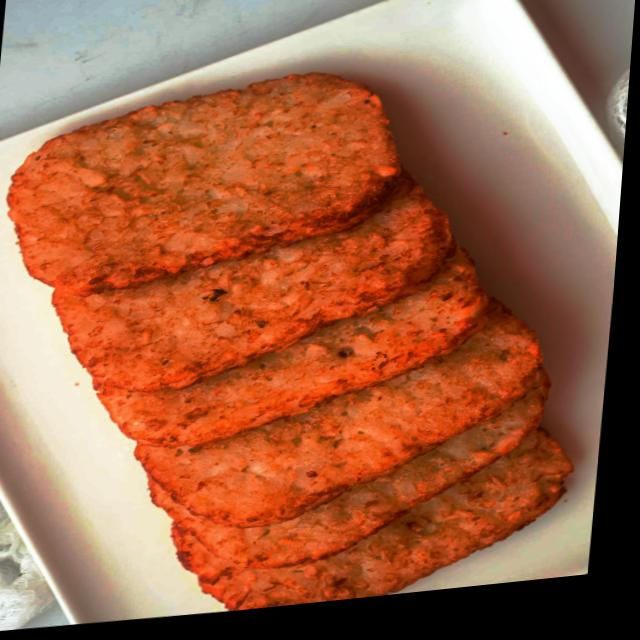Hashbrown: (24, 145, 600, 633), (0, 57, 407, 309)
